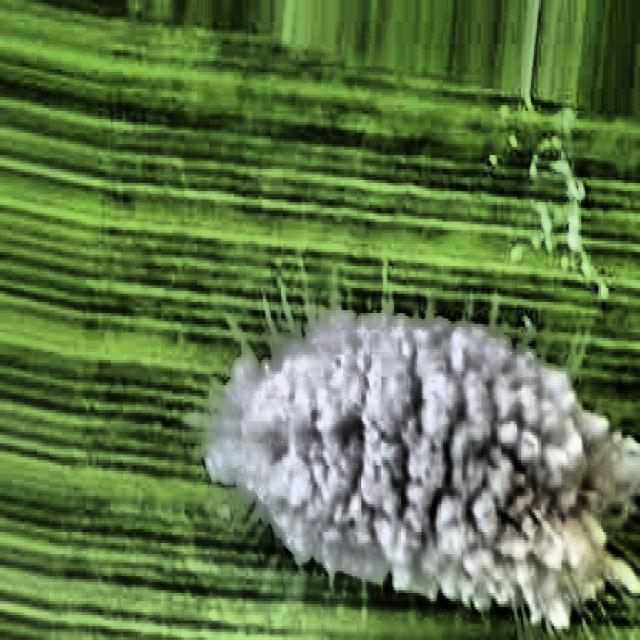Mealy-bug: (182, 149, 640, 640)
